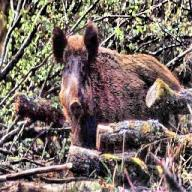boar: (51, 22, 192, 151)
